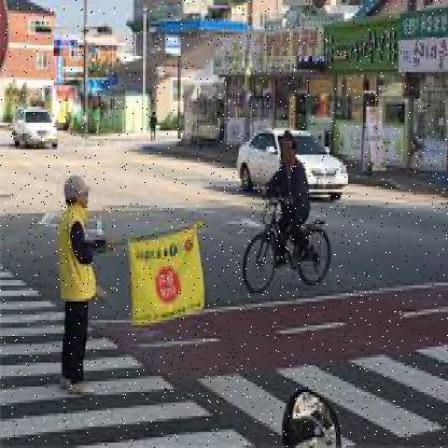silver: (60, 179, 118, 396)
